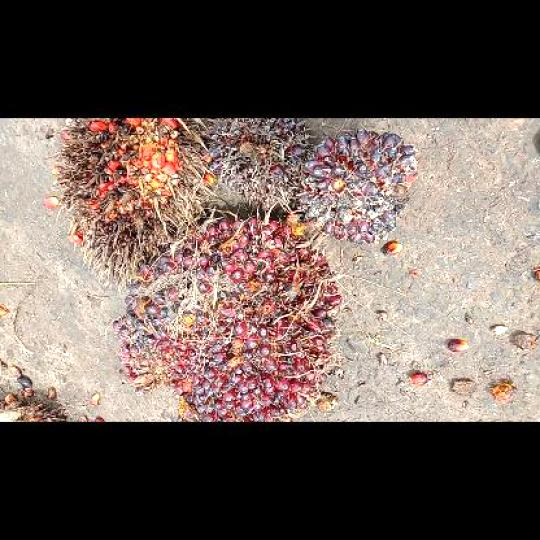masak: (108, 215, 346, 421)
terlalu masak: (55, 120, 207, 288)
